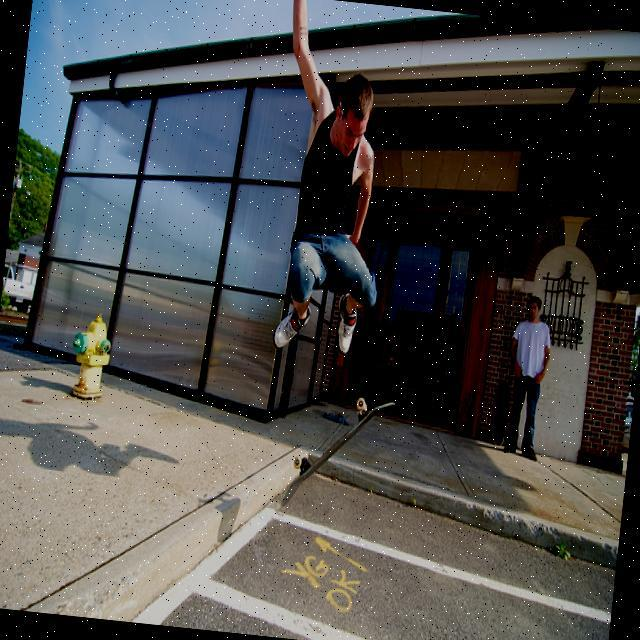fire_hydrant: (65, 310, 114, 402)
